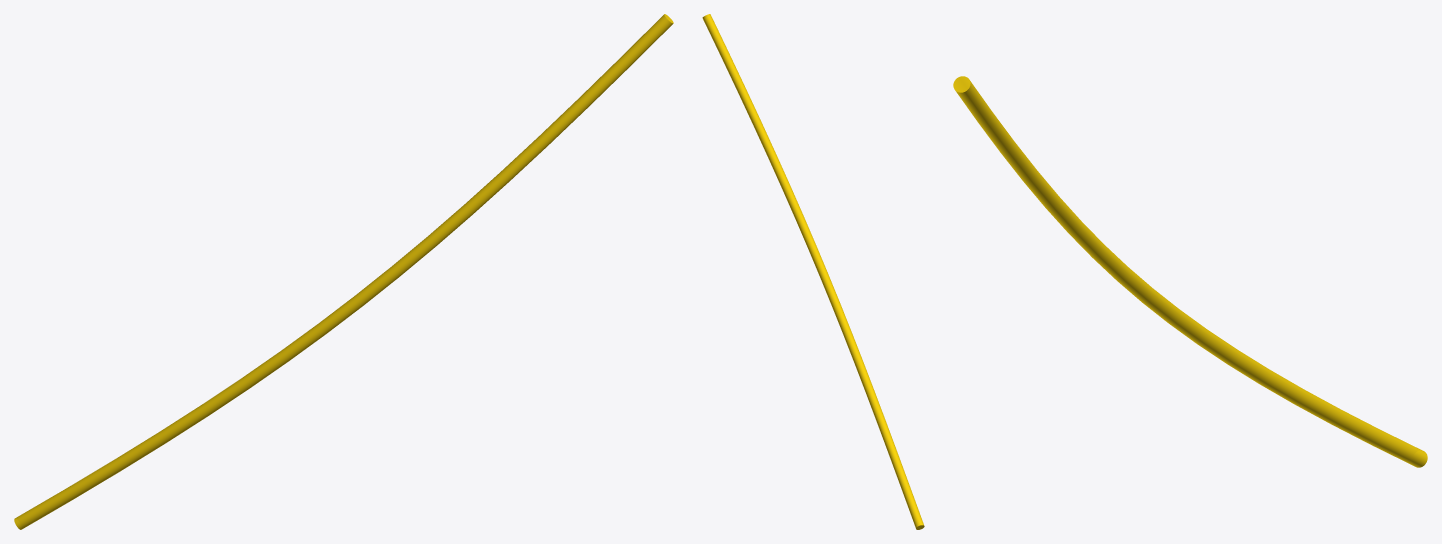
Rendered from Event_421127236_track_61.fbx.
3 renders of one model, left to right at view 1: azimuth 30°, elevation 25°; view 2: azimuth 150°, elevation 25°; view 3: azimuth 270°, elevation 25°, orthographic. The views are drawn at different scales.
Parts seen in each view (by area): view 1: Model; view 2: Model; view 3: Model.
Part boxes in pixels (left/top/right/bottom): Model: left=14, top=14, right=673, bottom=529; Model: left=702, top=14, right=924, bottom=529; Model: left=953, top=76, right=1427, bottom=467.
Size of the model in its own units: 1.72 by 1.74 by 1.06.
